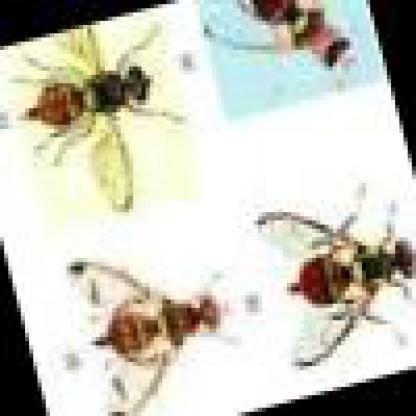fruit fly: (16, 33, 185, 211), (256, 187, 412, 367), (68, 256, 221, 412)
